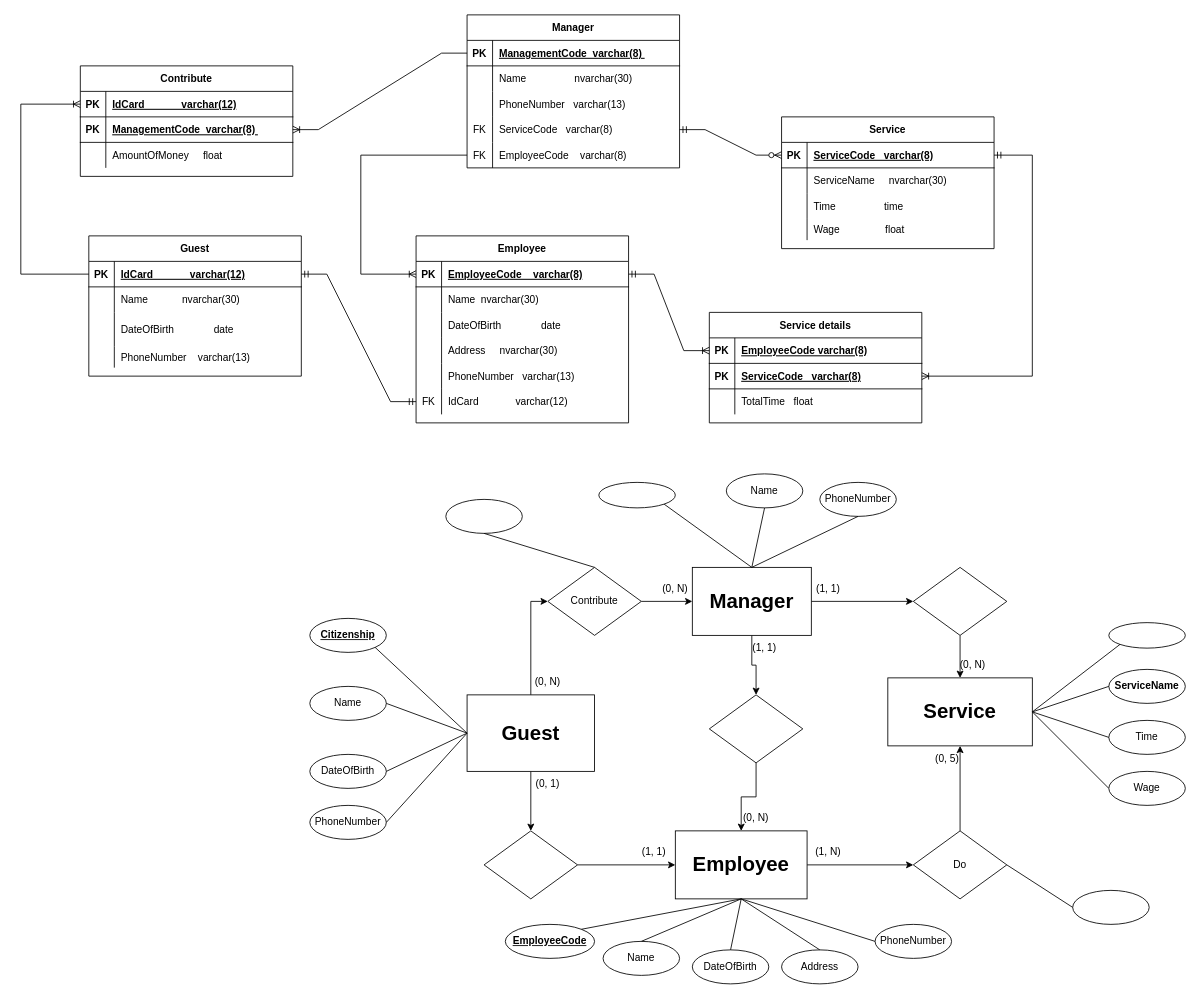
Image size: 1200x999. Some labels were removed from this diagram. The centre of each missing label's shape, as x and y in pixels:
"Guide" goes at (755,728).
"ManagerCode" goes at (636,495).
"Money" goes at (483,516).
"Operating" goes at (959,601).
"Register" goes at (530,864).
"ServiceCode" goes at (1146,635).
"TotalTime" goes at (1110,907).
